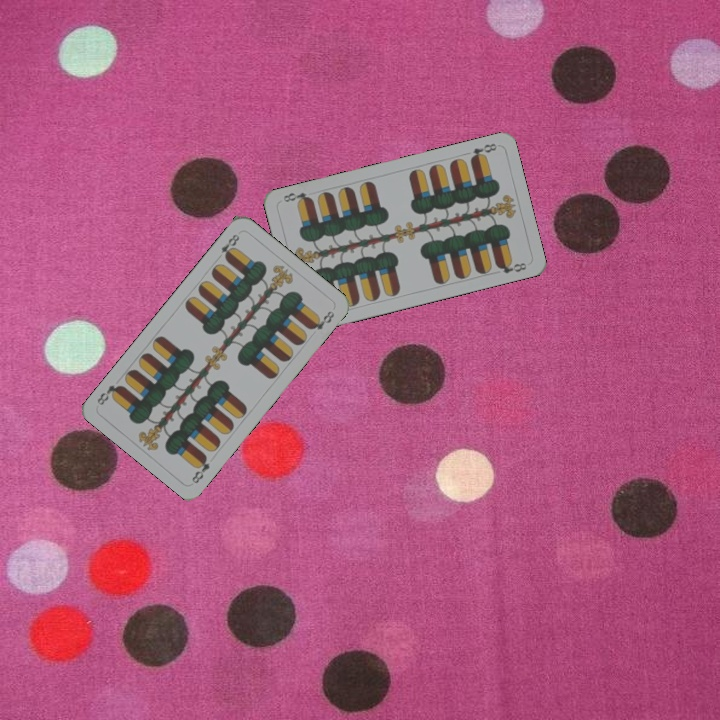E8: (212, 230, 242, 263), (188, 451, 212, 486), (466, 139, 499, 163)
